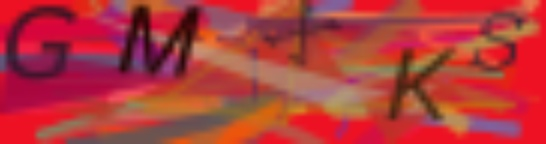G: (2, 1, 79, 81)
K: (384, 44, 461, 125)
M: (115, 1, 204, 79)
S: (470, 8, 530, 74)
X: (260, 1, 345, 68)
